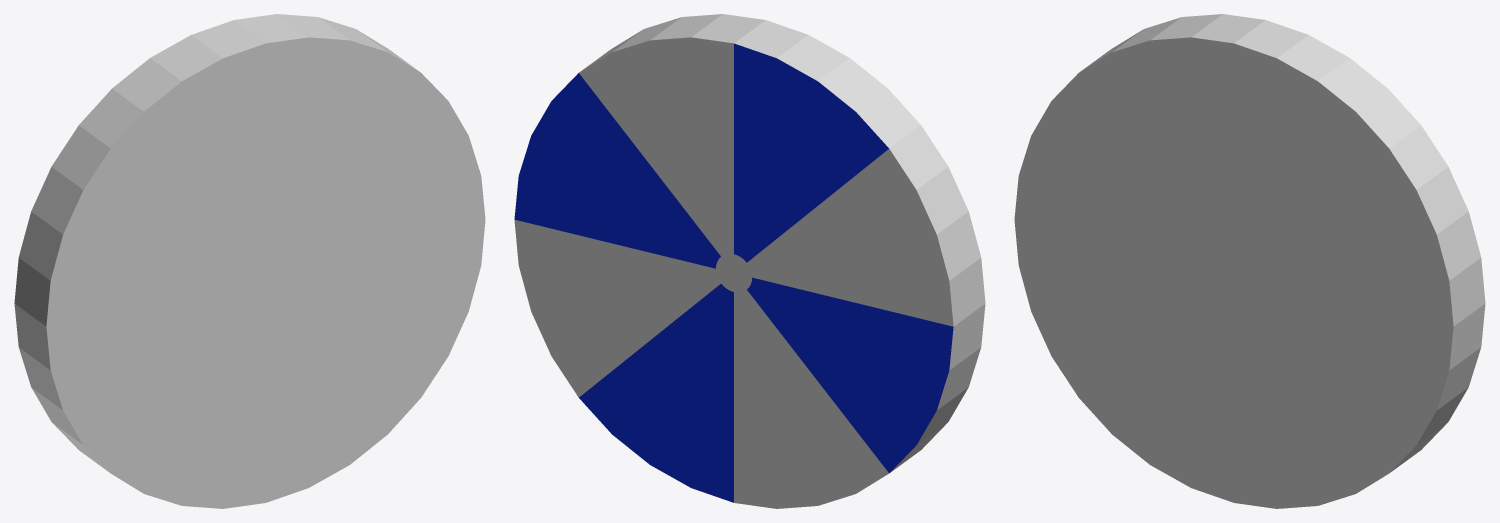
File: Cutter.fbx
The picture shows the model from 3 angles, left to right: view 1: azimuth 30°, elevation 25°; view 2: azimuth 150°, elevation 25°; view 3: azimuth 330°, elevation 25°; orthographic projection.
Parts seen in each view (by area): view 1: Cutter; view 2: Cutter; view 3: Cutter.
Boxes of the visible parts, x1=… form: Cutter: x1=14, y1=14, x2=485, y2=508; Cutter: x1=514, y1=14, x2=985, y2=508; Cutter: x1=1014, y1=14, x2=1485, y2=508.
Bounding box in the file's own units: 88.99 × 88.99 × 11.22.
